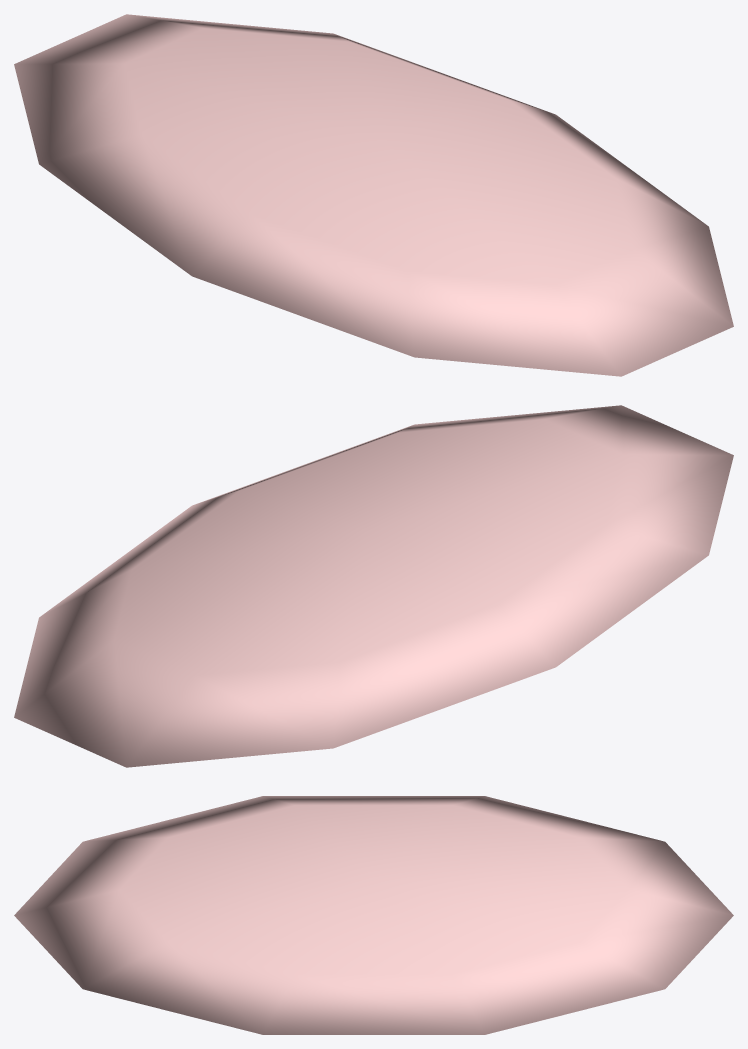
File: petal.glb
3 renders of one model, top to bottom at view 1: azimuth 30°, elevation 25°; view 2: azimuth 150°, elevation 25°; view 3: azimuth 270°, elevation 25°, orthographic. The views are drawn at different scales.
Visible parts, largest first — view 1: petal; view 2: petal; view 3: petal.
Part boxes in pixels (<box>): petal: <box>14,14,733,376</box>; petal: <box>14,405,733,767</box>; petal: <box>14,796,733,1034</box>.
Size of the model in its own units: 0.1205 by 0.0288 by 0.2.
